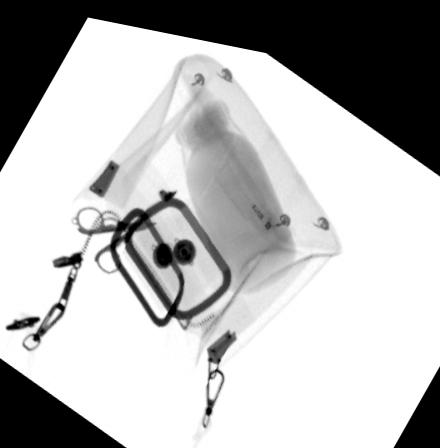Scissors: (74, 200, 156, 272)
